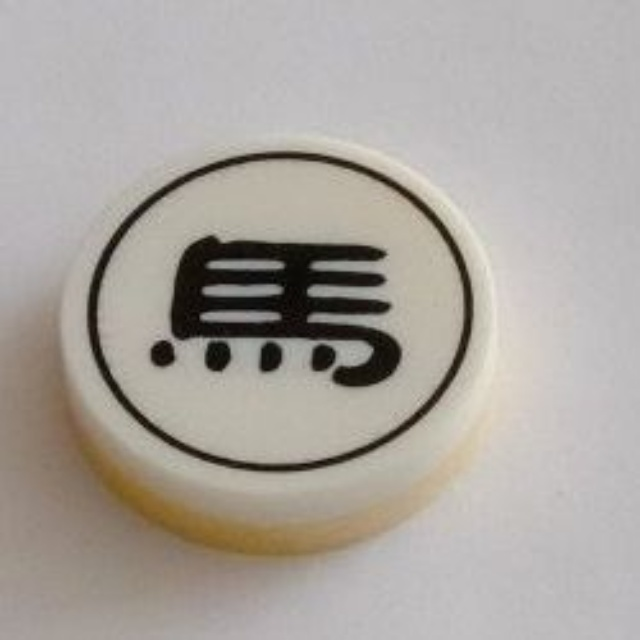black_ma: (59, 131, 504, 557)
